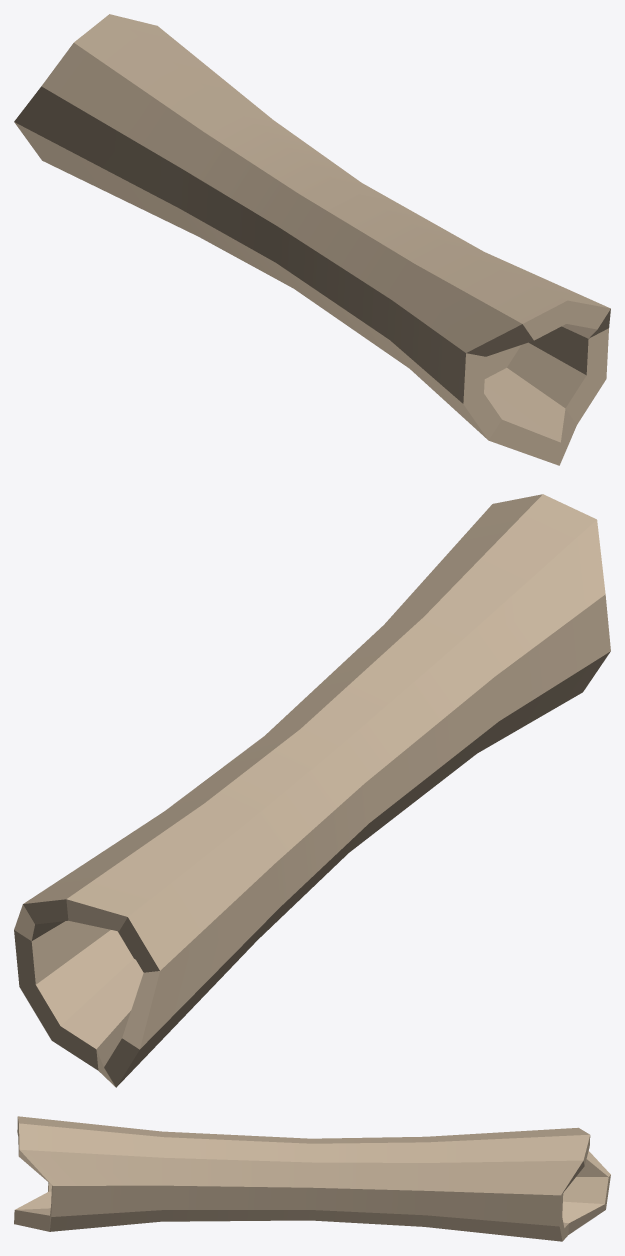
Rendered from SM_Bones_02.fbx.
The picture shows the model from 3 angles, top to bottom: view 1: azimuth 30°, elevation 25°; view 2: azimuth 150°, elevation 25°; view 3: azimuth 270°, elevation 25°; orthographic projection. The views are drawn at different scales.
Parts seen in each view (by area): view 1: SM_Bones_02; view 2: SM_Bones_02; view 3: SM_Bones_02.
Part boxes in pixels (x1,y1,x2,y2): SM_Bones_02: (14,14,610,465); SM_Bones_02: (14,494,610,1087); SM_Bones_02: (14,1116,610,1241).
Bounding box in the file's own units: 17.5 × 18.53 × 82.07.
1 material, 1 textured.
